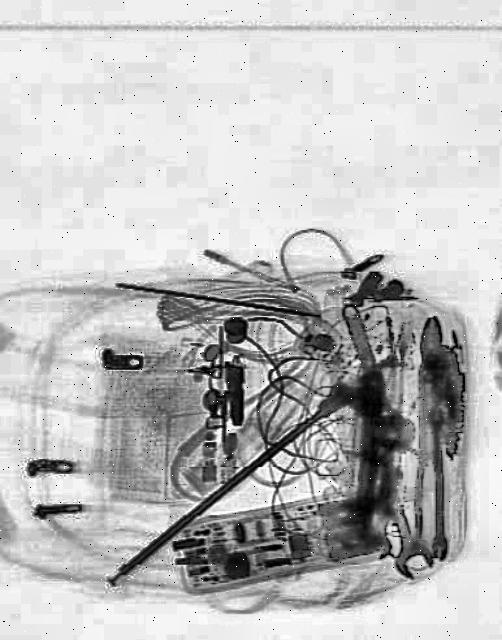Wrench: (322, 290, 422, 466), (366, 478, 436, 584)
